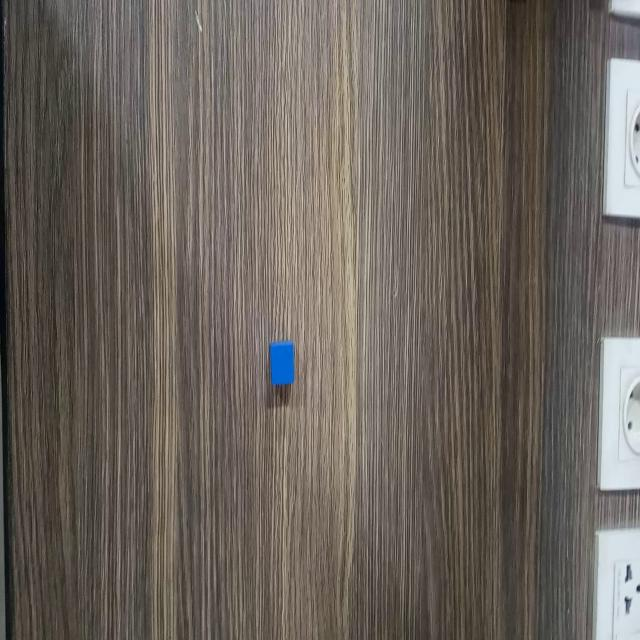cube: (265, 339, 296, 389)
